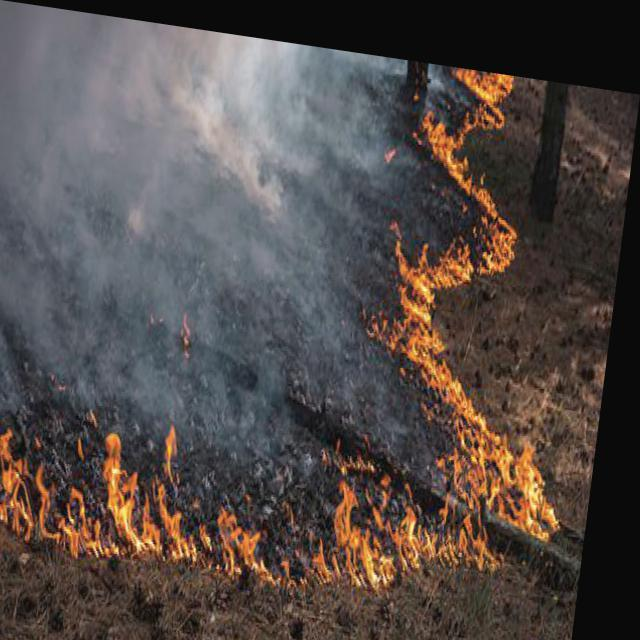Fire: (0, 372, 582, 618), (358, 49, 562, 428)
